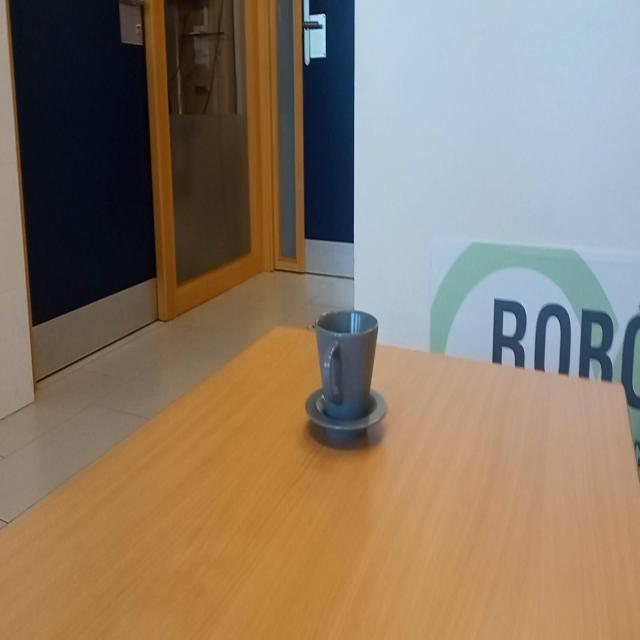cup: (302, 304, 390, 446)
